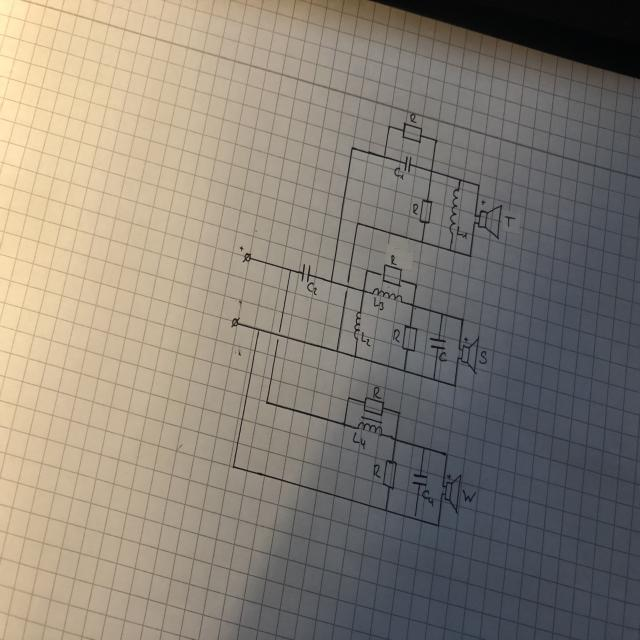capacitor: (428, 336, 446, 350), (300, 263, 312, 284), (411, 473, 428, 487), (403, 155, 412, 173)
crossover: (343, 276, 351, 296), (275, 325, 283, 344)
inductor: (357, 415, 382, 437), (371, 286, 403, 303), (448, 188, 459, 236), (353, 310, 362, 342)
junction: (411, 512, 419, 522), (382, 504, 389, 514), (381, 152, 388, 159), (230, 463, 237, 470), (350, 145, 356, 153), (432, 137, 438, 145), (419, 237, 425, 245), (355, 220, 361, 228), (364, 267, 370, 275), (286, 267, 292, 275), (457, 176, 463, 184), (476, 182, 482, 190), (410, 302, 416, 310), (412, 282, 418, 290), (459, 315, 465, 323), (438, 310, 444, 318), (452, 381, 458, 389), (392, 434, 398, 442), (395, 410, 401, 418), (434, 522, 440, 530), (264, 398, 270, 406), (346, 395, 352, 403), (334, 348, 340, 356), (255, 326, 261, 334), (328, 278, 334, 286), (387, 123, 393, 130), (428, 167, 434, 174), (447, 246, 453, 253), (341, 421, 347, 428), (352, 352, 358, 359), (361, 286, 366, 294), (467, 251, 472, 259), (401, 366, 406, 374), (431, 374, 436, 382), (421, 444, 426, 452), (444, 451, 449, 458)
resistor: (382, 458, 397, 492), (381, 264, 403, 287), (401, 122, 424, 143), (401, 324, 418, 352), (362, 396, 384, 417), (418, 198, 432, 224)
terminal: (242, 252, 254, 264), (230, 315, 240, 329)
text: (421, 490, 436, 508), (352, 431, 366, 450), (461, 488, 476, 503), (306, 281, 318, 296), (360, 331, 371, 347), (456, 226, 468, 240), (504, 214, 516, 228), (373, 296, 384, 311), (478, 350, 488, 364), (394, 167, 404, 180), (373, 463, 381, 479), (373, 386, 382, 399), (392, 329, 400, 343), (412, 203, 420, 216), (439, 351, 447, 362), (410, 113, 416, 123)
